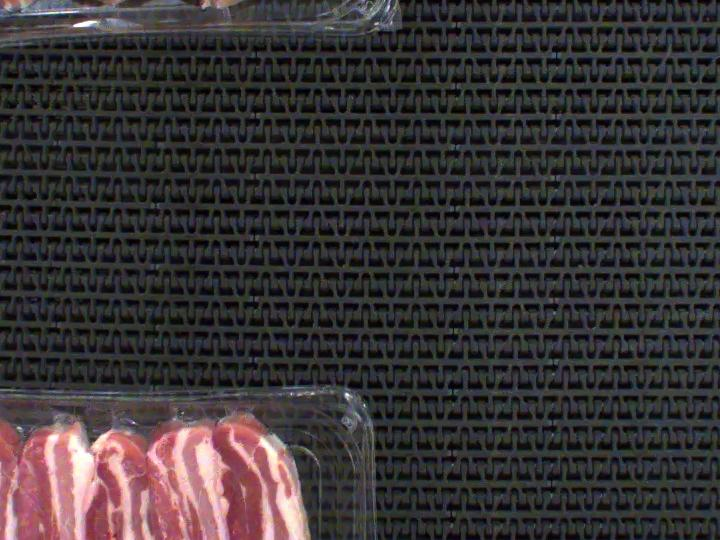packaging-error: (0, 398, 278, 445)
